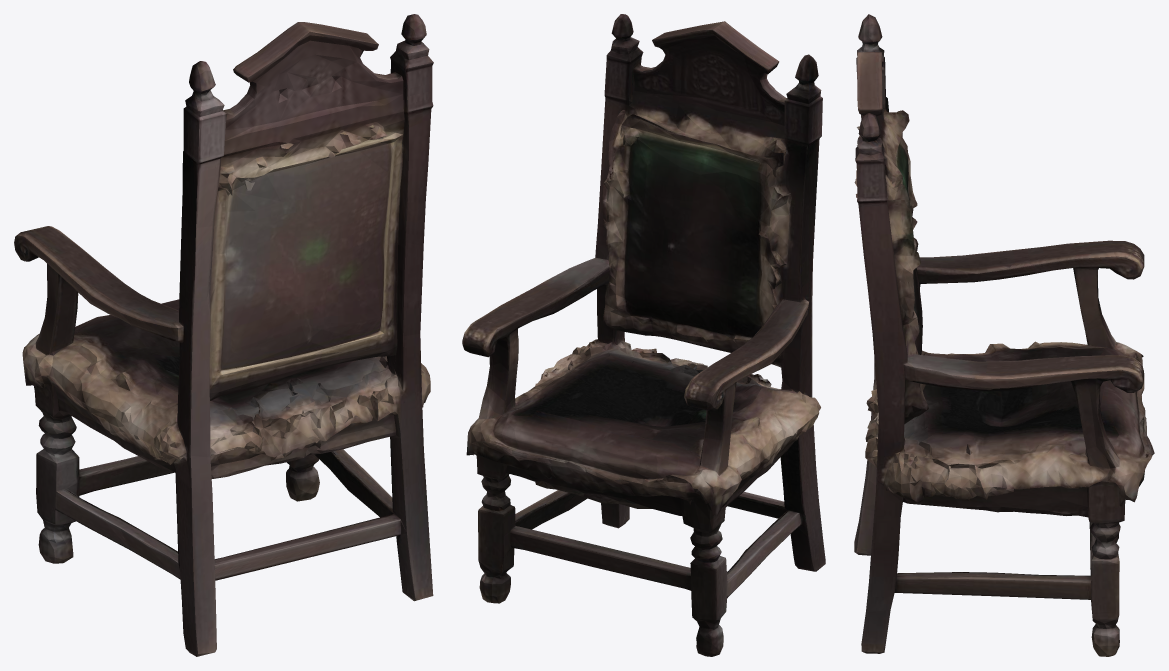
Rendered from council_throne.glb.
The picture shows the model from 3 angles, left to right: view 1: azimuth 30°, elevation 25°; view 2: azimuth 150°, elevation 25°; view 3: azimuth 270°, elevation 25°; orthographic projection. The views are drawn at different scales.
Visible parts, largest first — view 1: geometry_0; view 2: geometry_0; view 3: geometry_0.
Boxes of the visible parts, bbox=[...] form: geometry_0: bbox=[14, 14, 433, 656]; geometry_0: bbox=[462, 14, 825, 656]; geometry_0: bbox=[854, 14, 1154, 656].
Size of the model in its own units: 0.8254 by 1.6 by 0.7957.
Materials: 1 (1 with a texture image).
